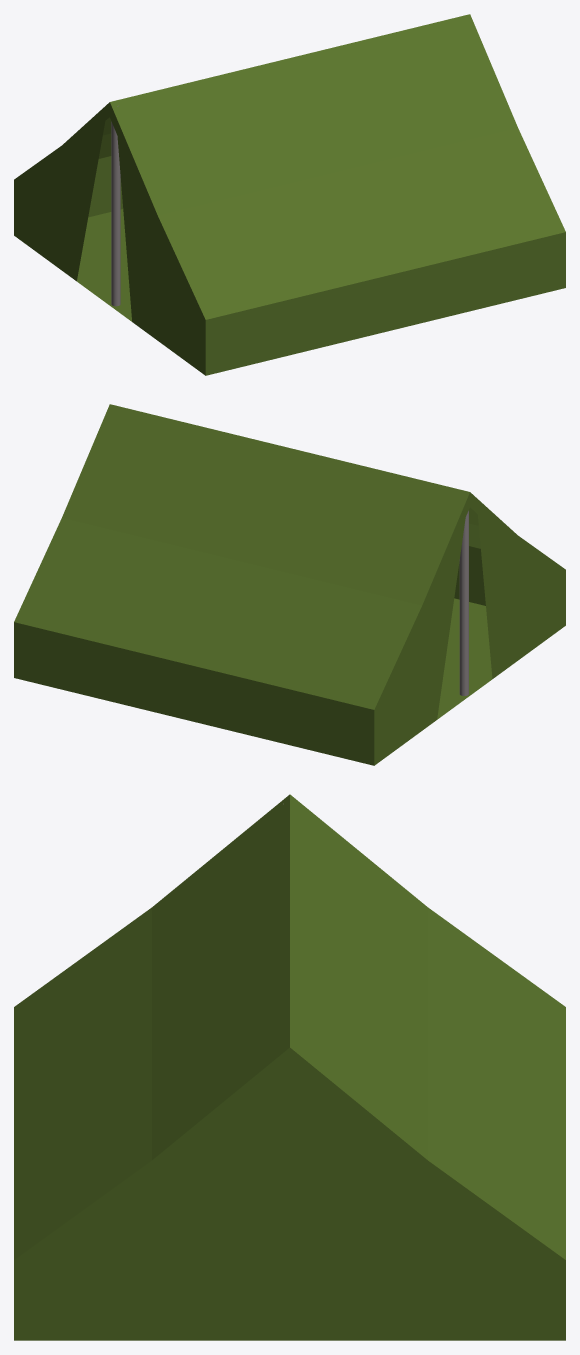
The model's file is tent (1).fbx.
3 renders of one model, top to bottom at view 1: azimuth 30°, elevation 25°; view 2: azimuth 150°, elevation 25°; view 3: azimuth 270°, elevation 25°, orthographic. The views are drawn at different scales.
Visible parts, largest first — view 1: Cube.001; view 2: Cube.001; view 3: Cube.001.
Boxes of the visible parts, left/top/right/bottom form: Cube.001: left=14, top=14, right=565, bottom=375; Cube.001: left=14, top=404, right=565, bottom=765; Cube.001: left=14, top=794, right=565, bottom=1340.
Bounding box in the file's own units: 989 × 535 × 912.
